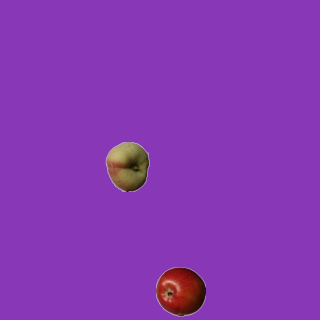Apple Braeburn: (155, 266, 205, 316)
Peach Flat: (102, 141, 152, 191)
